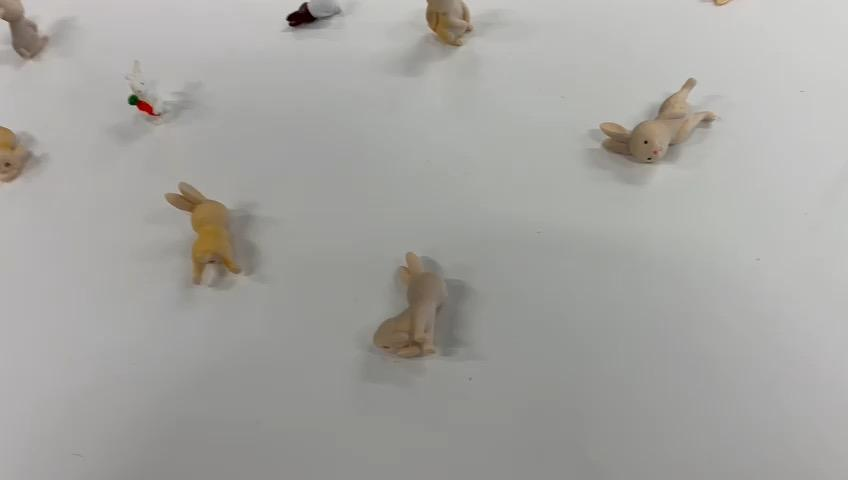pet: (599, 72, 725, 166), (163, 178, 250, 291), (369, 246, 448, 361), (0, 0, 52, 63), (421, 0, 479, 54), (122, 54, 164, 127), (0, 118, 33, 185), (279, 0, 348, 32)
